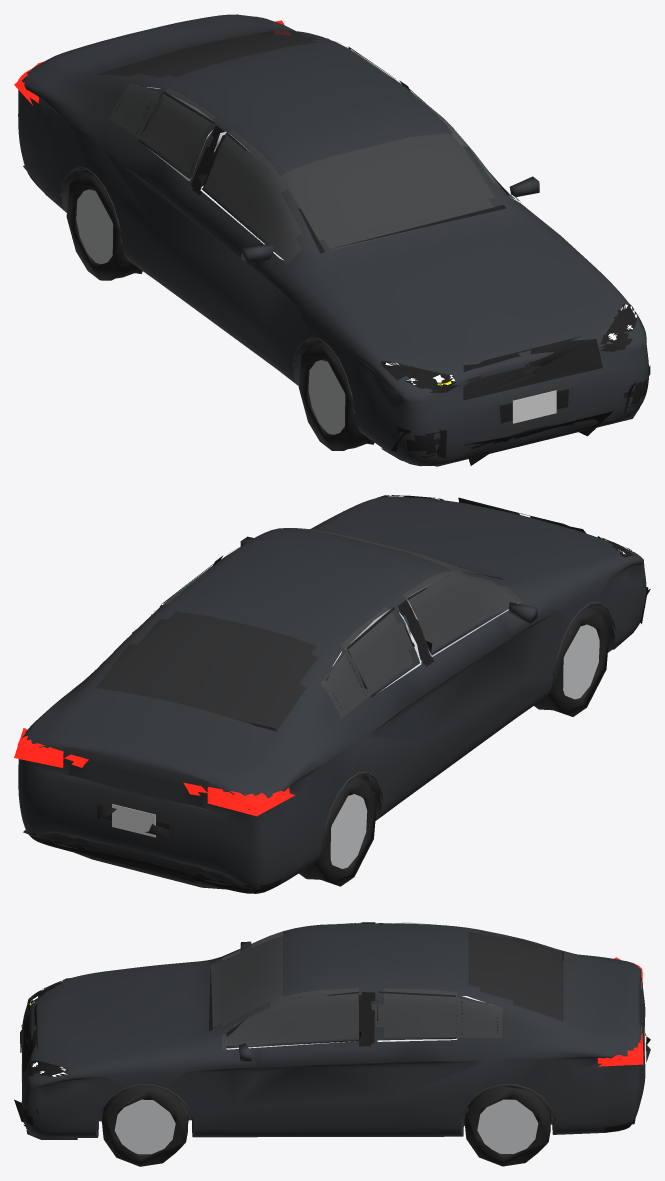
The model's file is sedan-lod2.glb.
3 renders of one model, top to bottom at view 1: azimuth 30°, elevation 25°; view 2: azimuth 150°, elevation 25°; view 3: azimuth 270°, elevation 25°, orthographic. The views are drawn at different scales.
Parts seen in each view (by area): view 1: Body, Body_Lining, Body_Trim, Wheel_FR_Tyre, Wheel_RR_Tyre, Wheel_FR_Face, Wheel_RR_Face, PlateFront; view 2: Body, Body_Lining, Body_Trim, Wheel_FR_Tyre, Wheel_RR_Tyre, Wheel_RR_Face, Wheel_FR_Face, PlateRear; view 3: Body, Body_Lining, Body_Trim, Wheel_FL_Tyre, Wheel_RL_Tyre, Wheel_FL_Face, Wheel_RL_Face.
Boxes of the visible parts, left/top/right/bottom form: Body: left=17, top=14, right=648, bottom=466; Body_Lining: left=105, top=35, right=494, bottom=264; Body_Trim: left=14, top=14, right=650, bottom=466; Wheel_FR_Tyre: left=298, top=342, right=374, bottom=450; Wheel_RR_Tyre: left=66, top=172, right=142, bottom=280; Wheel_FR_Face: left=308, top=360, right=345, bottom=434; Wheel_RR_Face: left=76, top=189, right=113, bottom=264; PlateFront: left=512, top=390, right=556, bottom=423; Body: left=17, top=496, right=646, bottom=893; Body_Lining: left=98, top=564, right=517, bottom=721; Body_Trim: left=14, top=495, right=650, bottom=889; Wheel_FR_Tyre: left=534, top=607, right=609, bottom=716; Wheel_RR_Tyre: left=299, top=776, right=376, bottom=886; Wheel_RR_Face: left=330, top=794, right=367, bottom=868; Wheel_FR_Face: left=563, top=624, right=599, bottom=699; PlateRear: left=112, top=804, right=155, bottom=837; Body: left=21, top=923, right=645, bottom=1138; Body_Lining: left=211, top=934, right=561, bottom=1049; Body_Trim: left=14, top=922, right=650, bottom=1139; Wheel_FL_Tyre: left=101, top=1086, right=188, bottom=1166; Wheel_RL_Tyre: left=464, top=1086, right=551, bottom=1166; Wheel_FL_Face: left=114, top=1099, right=175, bottom=1154; Wheel_RL_Face: left=477, top=1099, right=538, bottom=1153.
Bounding box in the file's own units: 2.04 × 1.45 × 4.95.
